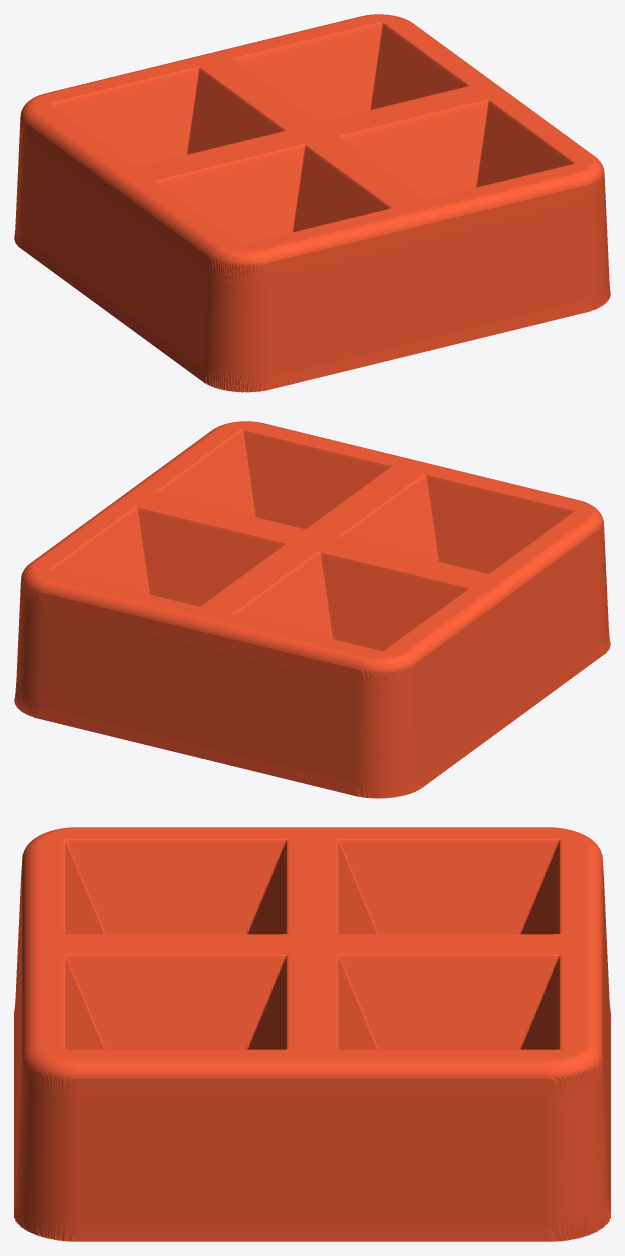
File: mold.glb
The picture shows the model from 3 angles, top to bottom: view 1: azimuth 30°, elevation 25°; view 2: azimuth 150°, elevation 25°; view 3: azimuth 270°, elevation 25°; orthographic projection. The views are drawn at different scales.
Parts seen in each view (by area): view 1: geometry_0; view 2: geometry_0; view 3: geometry_0.
Boxes of the visible parts, x1=… form: geometry_0: x1=14, y1=14, x2=610, y2=392; geometry_0: x1=14, y1=421, x2=610, y2=798; geometry_0: x1=14, y1=827, x2=610, y2=1241.
Size of the model in its own units: 0.0844 by 0.0267 by 0.0844.
